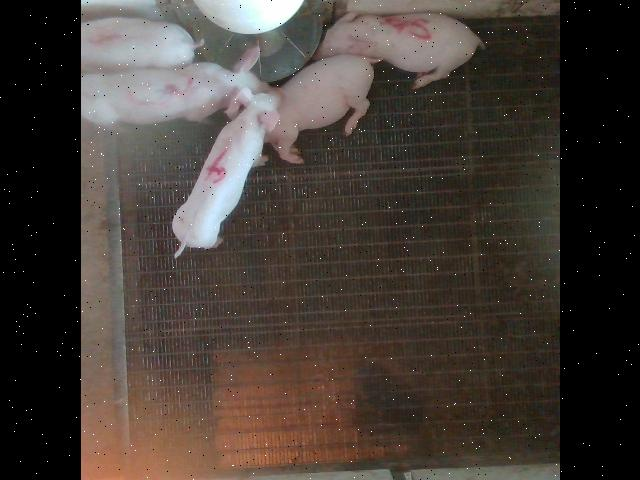pig-1: (81, 18, 202, 69)
pig-3: (81, 46, 270, 125)
pig-4: (171, 88, 281, 258)
pig-5: (314, 12, 482, 89)
